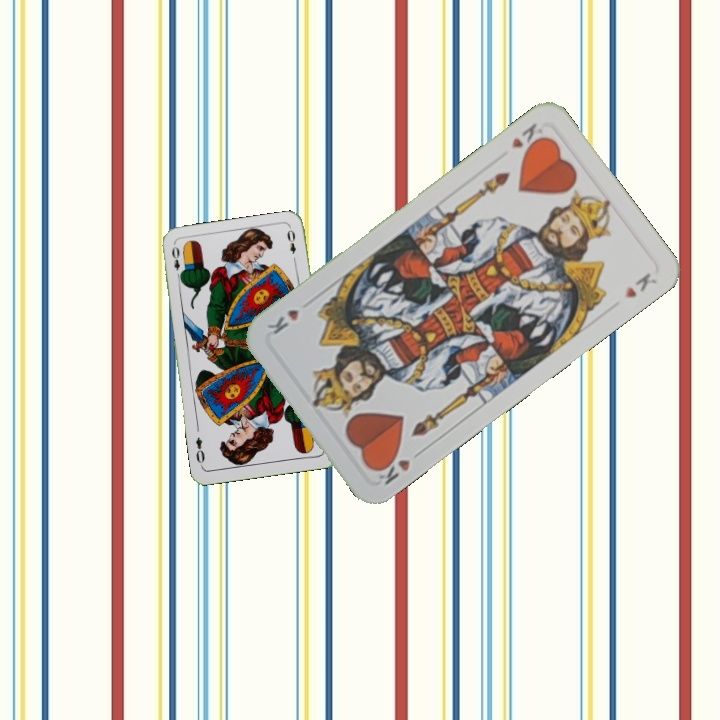EO: (168, 242, 185, 282)
HK: (507, 119, 548, 157), (372, 450, 413, 487)
